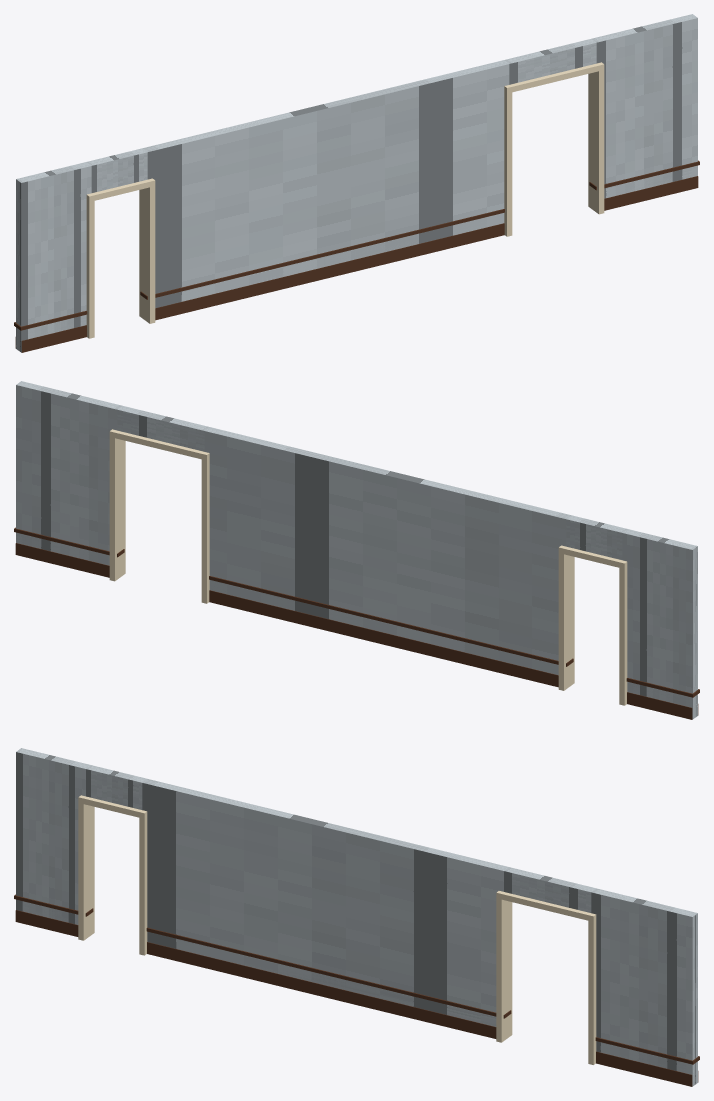
File: hall_front.glb
3 renders of one model, top to bottom at view 1: azimuth 30°, elevation 25°; view 2: azimuth 150°, elevation 25°; view 3: azimuth 330°, elevation 25°, orthographic.
Visible parts, largest first — view 1: Box3, Box5, Box1, Box4, Box10, Box8, Box13, Box7, Box18, Box9, Box12, Box6 (+3 smaller); view 2: Box3, Box5, Box1, Box4, Box10, Box8, Box13, Box7, Box18, Box9, Box12, Box6 (+3 smaller); view 3: Box3, Box5, Box1, Box4, Box17, Box9, Box8, Box12, Box7, Box18, Box10, Box13 (+3 smaller).
Part boxes in pixels (x1,y1,x2,y2): Box3: (142, 60, 509, 308); Box5: (591, 14, 697, 198); Box1: (16, 162, 91, 352); Box4: (155, 223, 504, 320); Box10: (588, 62, 604, 214); Box8: (504, 39, 596, 84); Box13: (139, 178, 155, 323); Box7: (86, 148, 147, 192); Box18: (140, 209, 504, 299); Box9: (504, 85, 512, 236); Box12: (86, 193, 94, 338); Box6: (604, 176, 698, 210); Box3: (204, 427, 571, 675); Box5: (16, 381, 122, 565); Box1: (622, 529, 697, 719); Box4: (209, 590, 558, 687); Box10: (109, 429, 125, 581); Box8: (117, 406, 209, 451); Box13: (558, 545, 574, 690); Box7: (566, 515, 627, 559); Box18: (209, 576, 573, 666); Box9: (201, 452, 209, 603); Box12: (619, 560, 627, 705); Box6: (15, 543, 109, 577); Box3: (142, 779, 508, 1026); Box5: (591, 888, 697, 1086); Box1: (16, 748, 90, 924); Box4: (147, 942, 496, 1038); Box17: (148, 939, 496, 1026); Box9: (496, 891, 512, 1042); Box8: (504, 867, 596, 912); Box12: (78, 795, 94, 940); Box7: (86, 765, 147, 809); Box18: (146, 927, 511, 1018); Box10: (588, 913, 596, 1064); Box13: (139, 810, 147, 955).
Size of the model in its own units: 10.89 by 2.6 by 0.3.
Materials: 3 (1 with a texture image).
